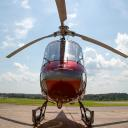helicopter: (14, 2, 110, 128)
